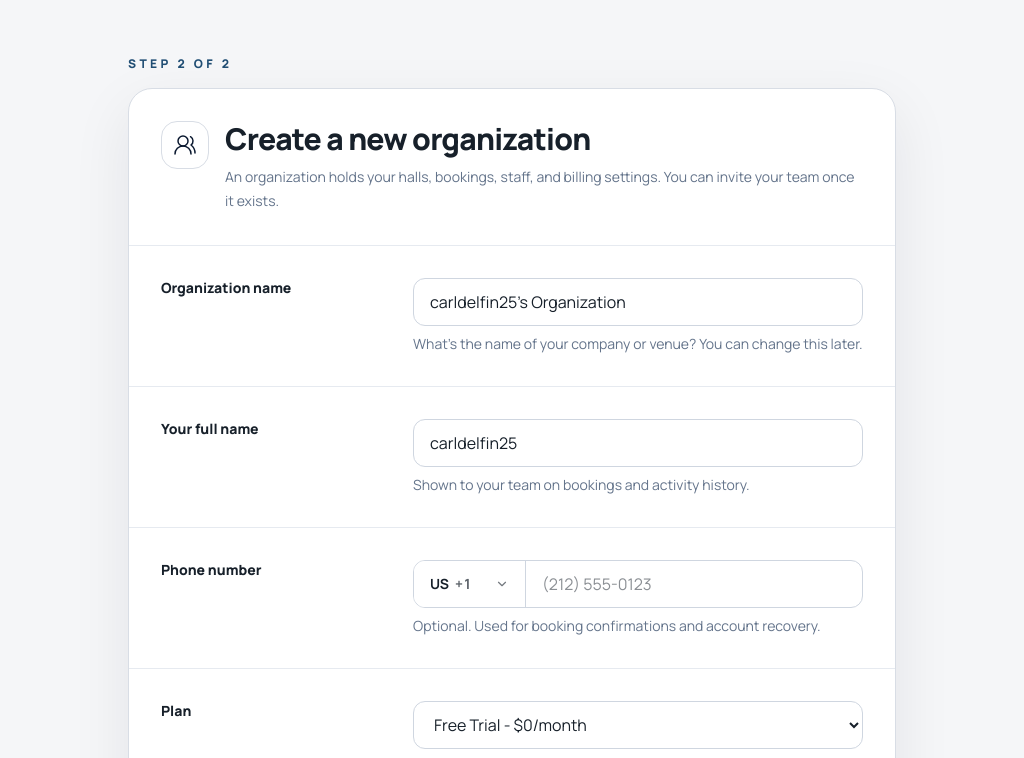
Test: CreateOrganizationPage › phone validation › keeps a half-valid entry out of the request
Step 1. Replace the text in the field labelled "Organization name" with "Riverside Events" → (638, 302), box [413,278,863,326]
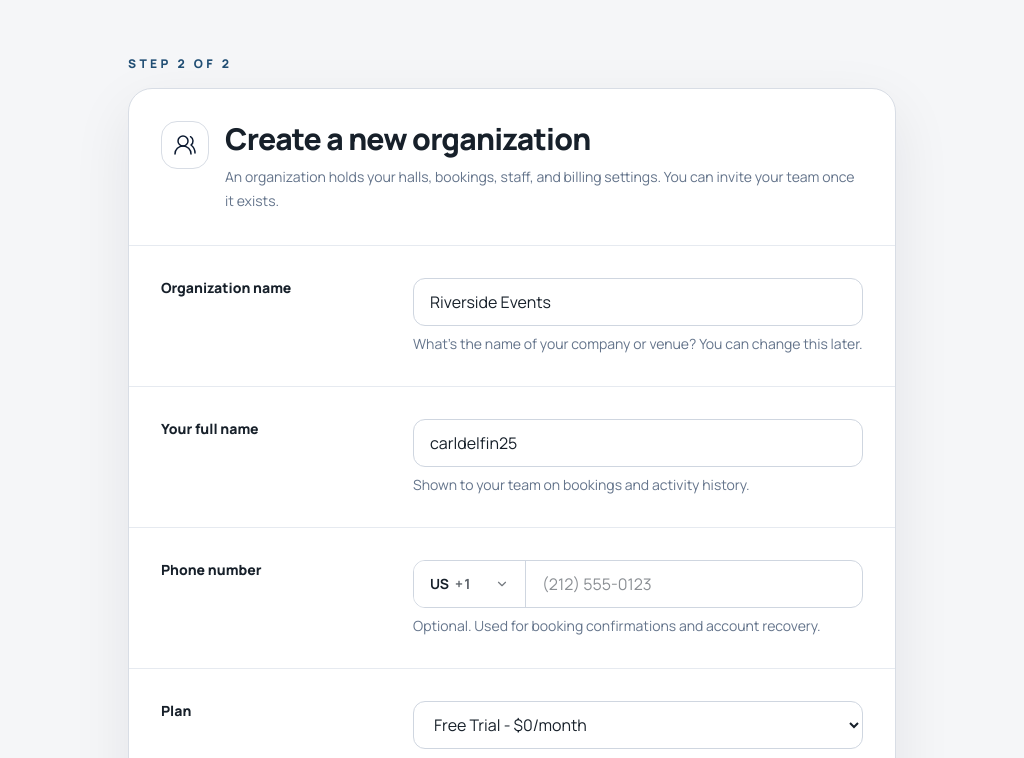
Step 2. Replace the text in the field labelled "Your full name" with "Jordan Rivera" → (638, 443), box [413,419,863,467]
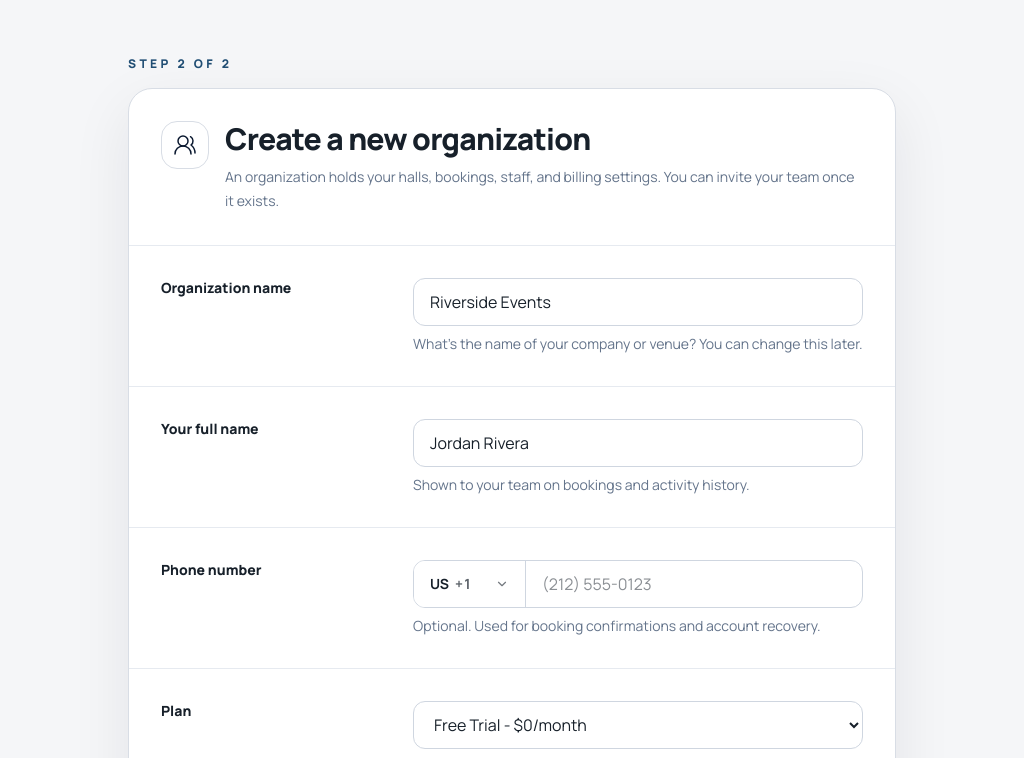
Step 3. Type "212555" into the field labelled "Phone number" → (694, 584), box [526,561,862,607]
(page scrolled)
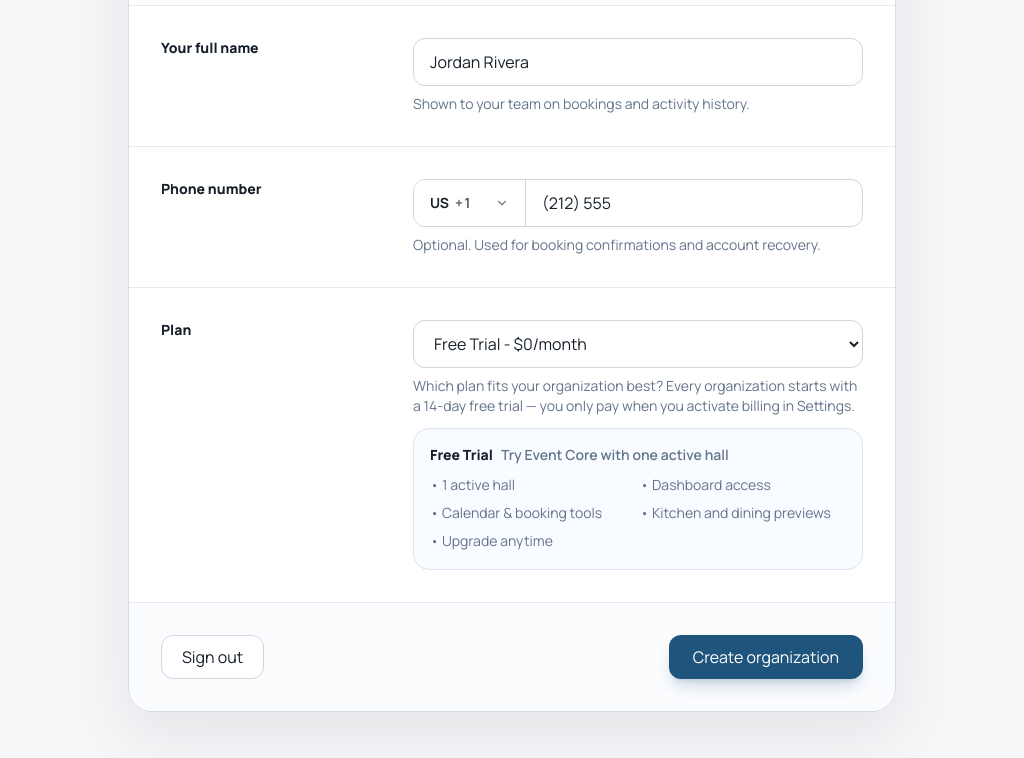
Step 4. Click the button "Create organization" → (766, 657), box [669,635,863,679]
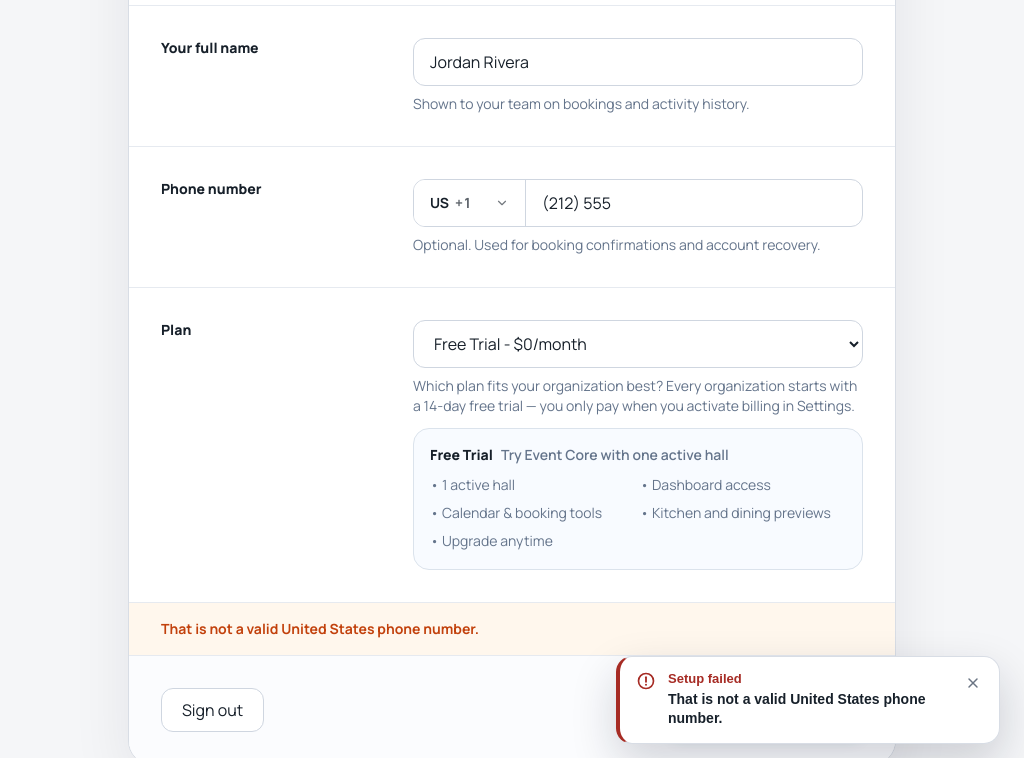
Result: the message "That is not a valid United States phone number." is shown at [129,602,895,655]
